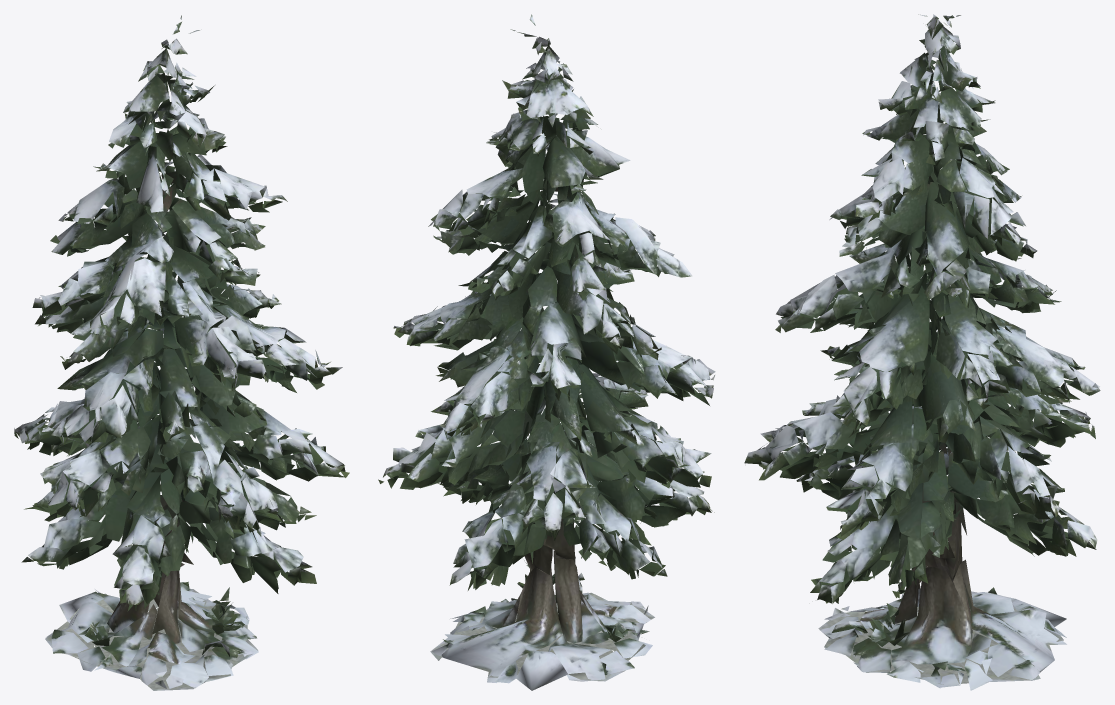
File: FrostPine.fbx
3 views of the same model, side by side, from view 1: azimuth 30°, elevation 25°; view 2: azimuth 150°, elevation 25°; view 3: azimuth 270°, elevation 25° (orthographic). The views are drawn at different scales.
Visible parts, largest first — view 1: FrostPine_Body; view 2: FrostPine_Body; view 3: FrostPine_Body.
Part boxes in pixels (<box>): FrostPine_Body: <box>14,15,349,690</box>; FrostPine_Body: <box>378,14,715,690</box>; FrostPine_Body: <box>744,14,1100,690</box>.
Bounding box in the file's own units: 0.4712 × 0.996 × 0.4967.
1 material, 1 textured.
